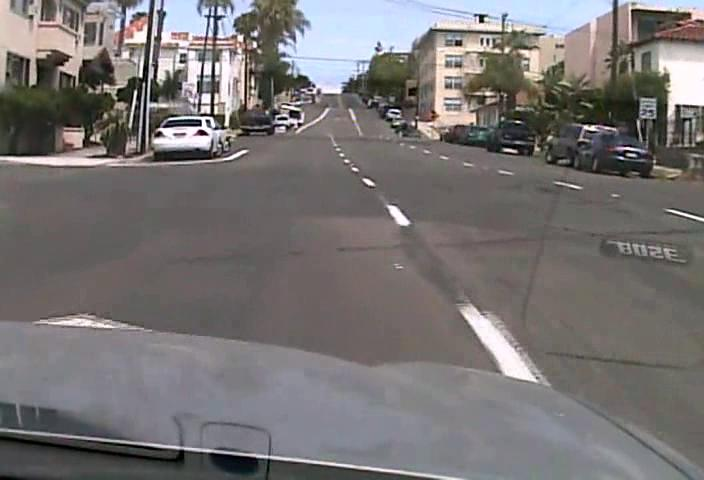speedLimit25: (637, 96, 658, 120)
